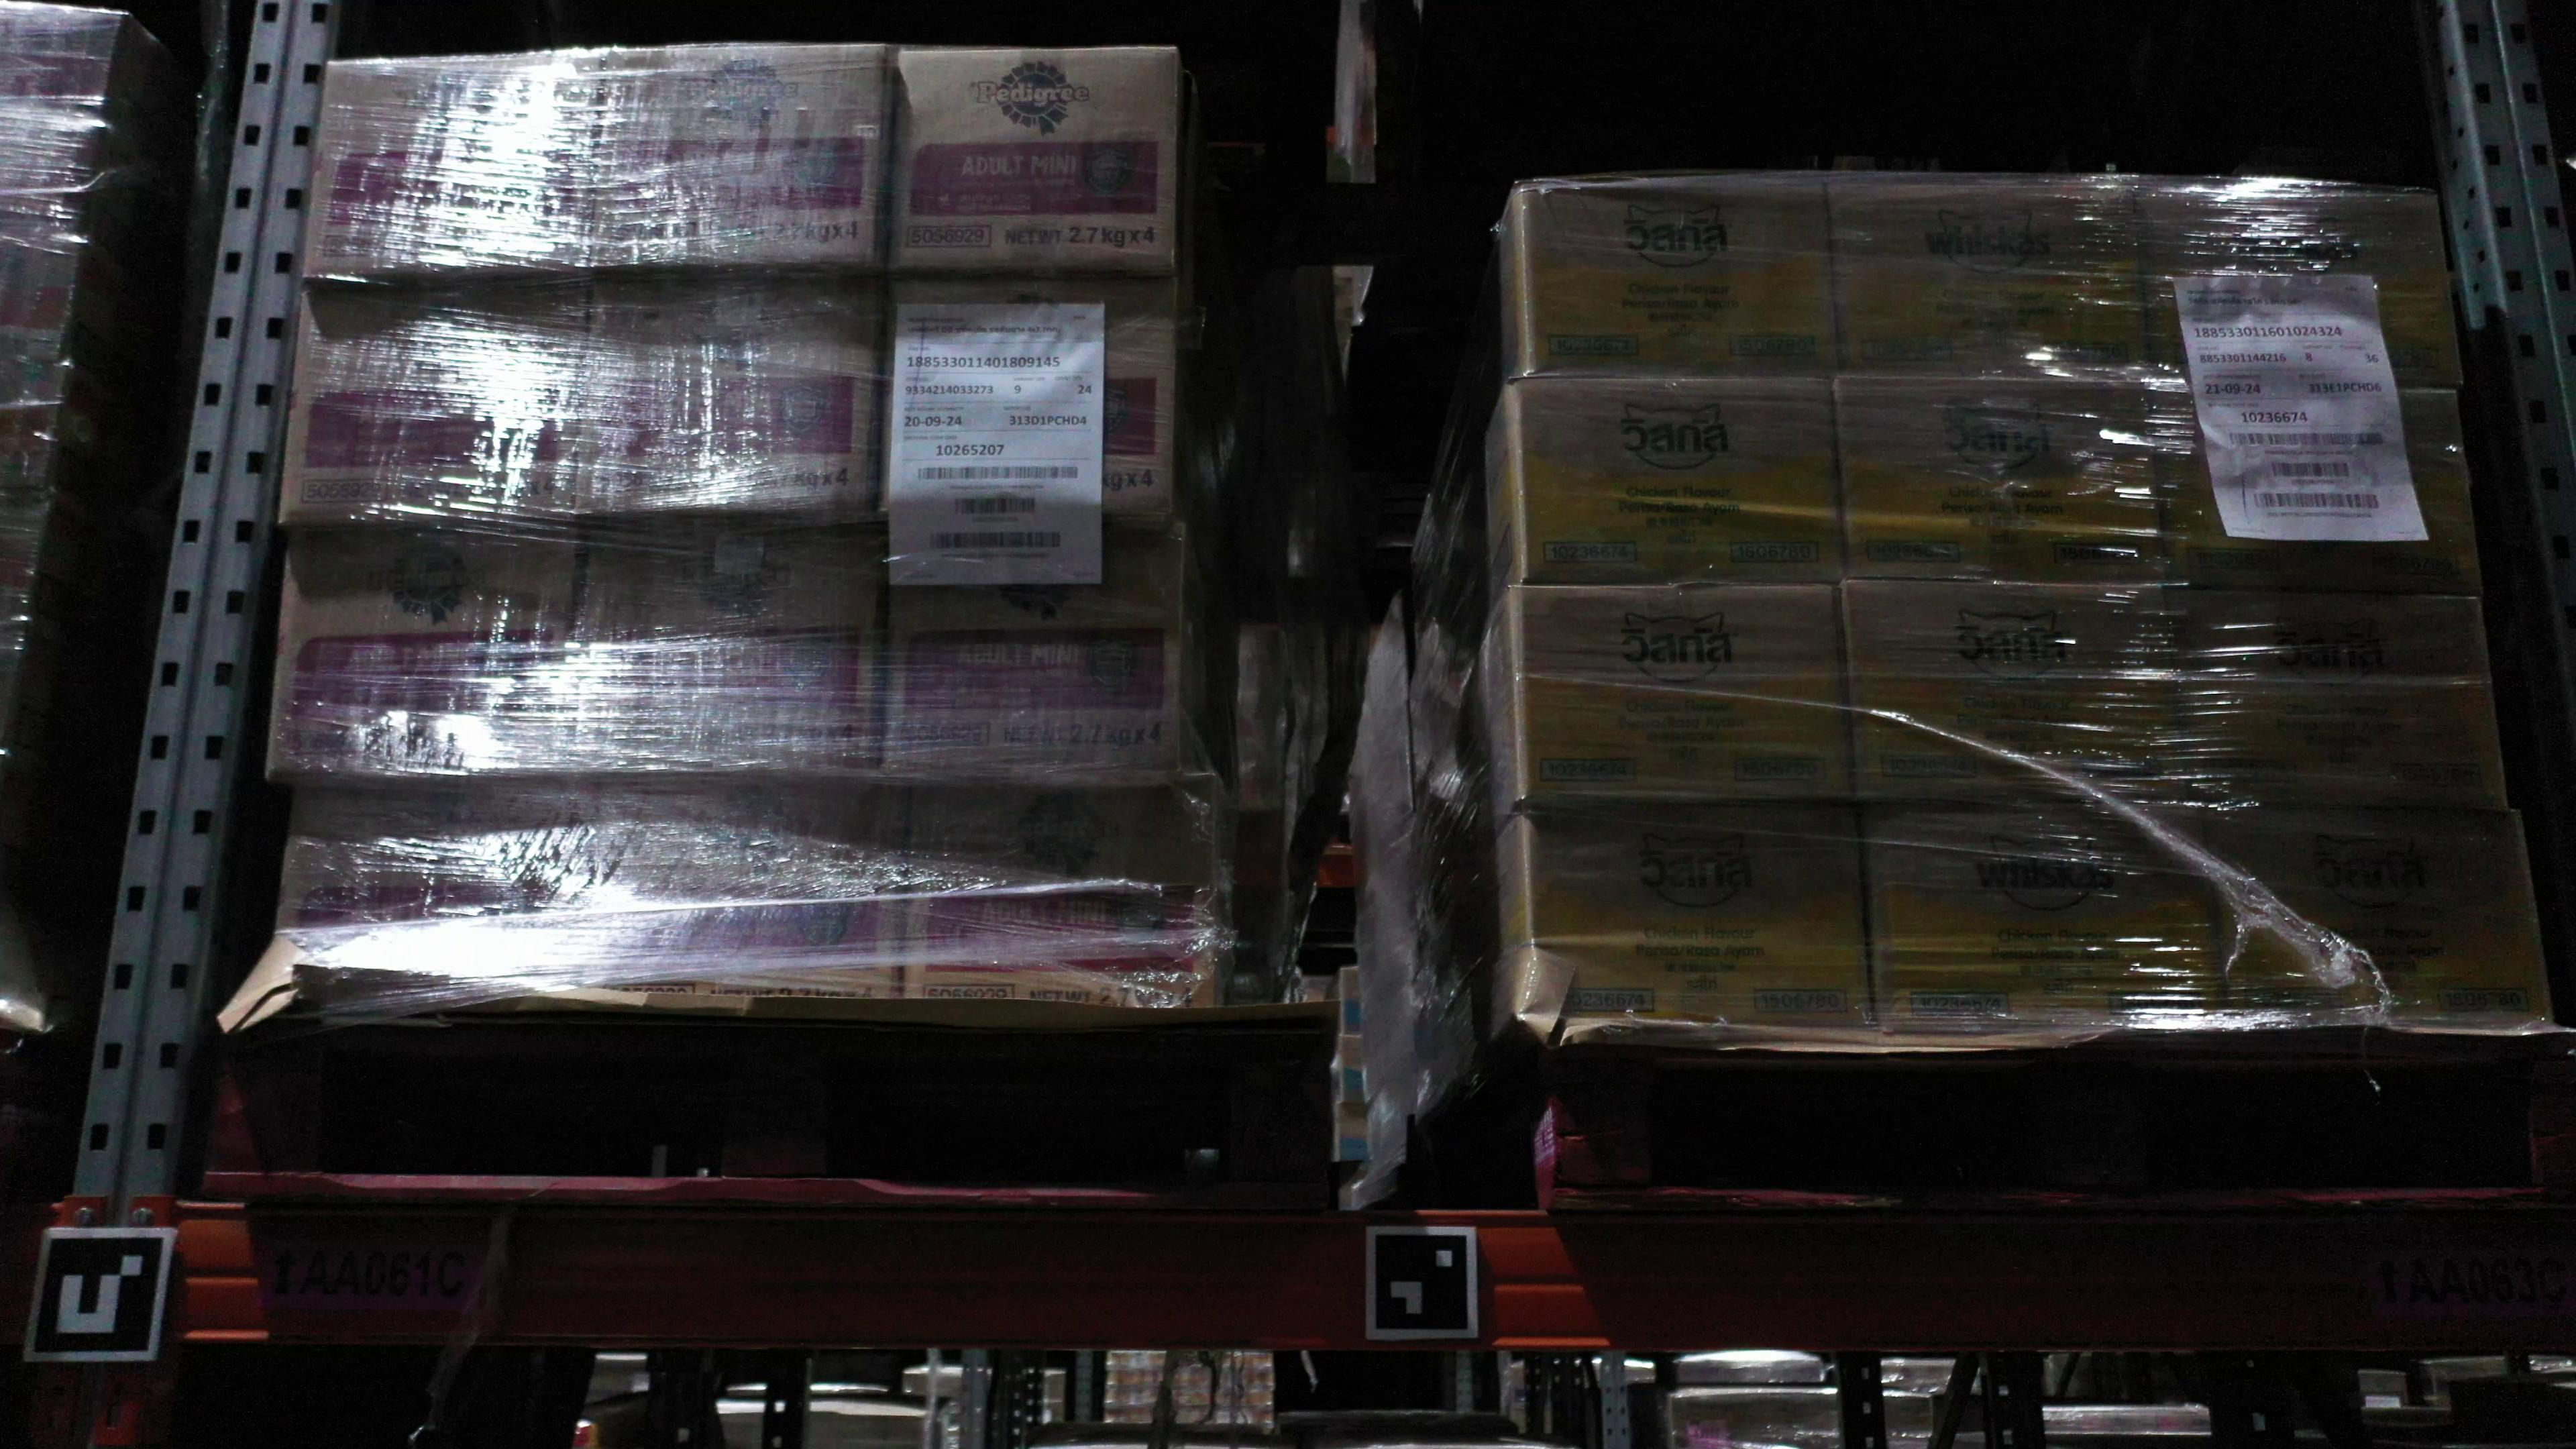-: (1856, 807, 2227, 1031), (265, 527, 587, 780), (563, 531, 888, 778), (870, 533, 1184, 789), (1527, 803, 1872, 1035), (1849, 579, 2201, 803), (278, 281, 593, 527), (2178, 582, 2509, 814), (2206, 812, 2551, 1026), (1511, 586, 1854, 800), (584, 787, 913, 1007), (573, 285, 881, 518), (1822, 177, 2158, 387), (881, 280, 1175, 518), (2153, 380, 2482, 593), (299, 51, 602, 281), (586, 42, 892, 269), (1833, 375, 2173, 579), (899, 787, 1212, 1007), (2128, 188, 2465, 391), (1518, 379, 1847, 586), (888, 48, 1180, 272), (1520, 179, 1842, 380), (274, 786, 602, 982), (0, 0, 127, 119), (0, 111, 104, 241), (0, 226, 83, 364), (0, 359, 65, 492), (0, 494, 53, 628)
